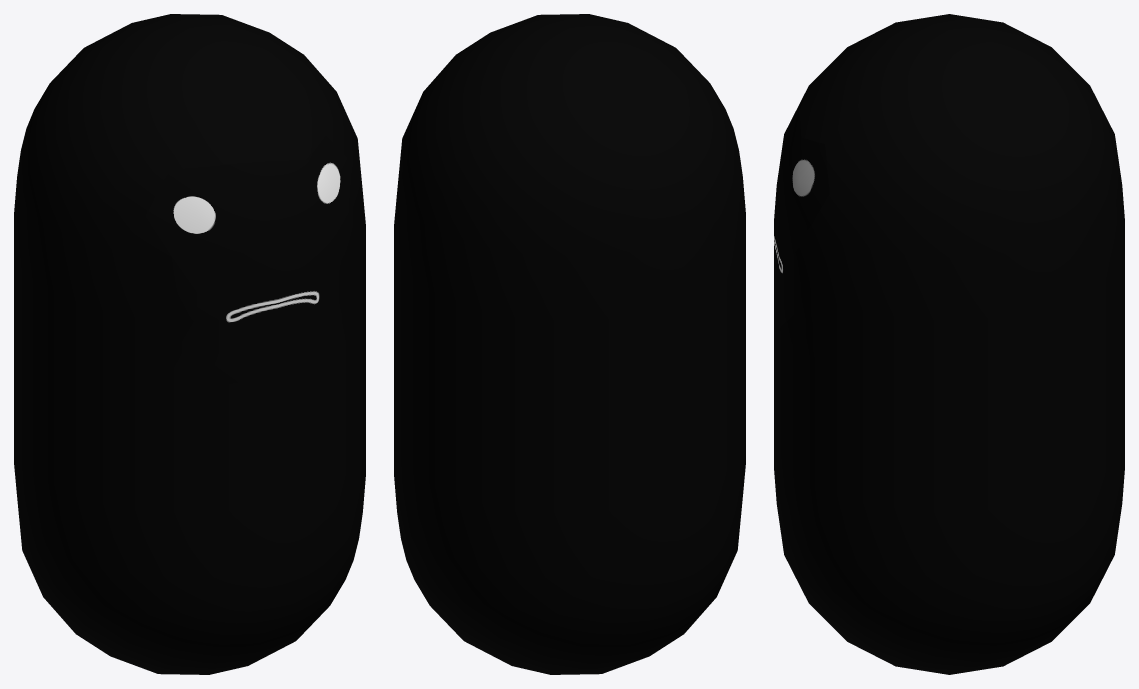
3 renders of one model, left to right at view 1: azimuth 30°, elevation 25°; view 2: azimuth 150°, elevation 25°; view 3: azimuth 270°, elevation 25°, orthographic.
Visible parts, largest first — view 1: head, body; view 2: head, body; view 3: head, body.
Boxes of the visible parts, bbox=[...] form: head: bbox=[14, 14, 365, 385]; body: bbox=[14, 306, 365, 674]; head: bbox=[394, 14, 745, 385]; body: bbox=[394, 306, 745, 674]; head: bbox=[774, 14, 1124, 384]; body: bbox=[774, 312, 1124, 674].
Size of the model in its own units: 1 by 1.01 by 1.99.
1 material, 1 textured.
